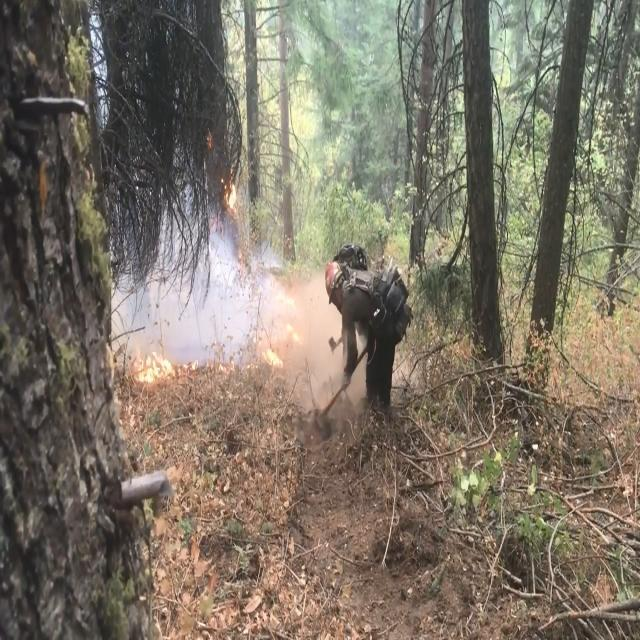Fire: (122, 328, 178, 394)
